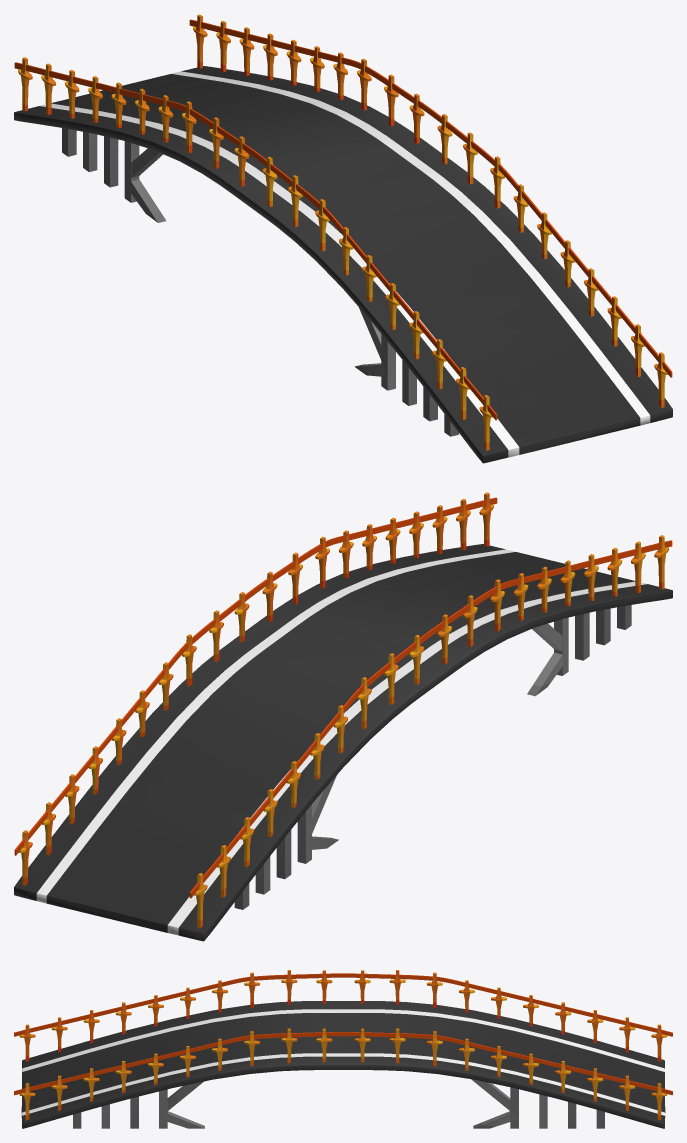
The model's file is Bridge.fbx.
3 renders of one model, top to bottom at view 1: azimuth 30°, elevation 25°; view 2: azimuth 150°, elevation 25°; view 3: azimuth 270°, elevation 25°, orthographic. The views are drawn at different scales.
Visible parts, largest first — view 1: Bridge; view 2: Bridge; view 3: Bridge.
Boxes of the visible parts, x1,y1,x2,y2 form: Bridge: (14, 14, 672, 463); Bridge: (14, 492, 672, 941); Bridge: (14, 970, 672, 1128).
Size of the model in its own units: 791 by 570 by 3444.
Materials: 1 (1 with a texture image).
